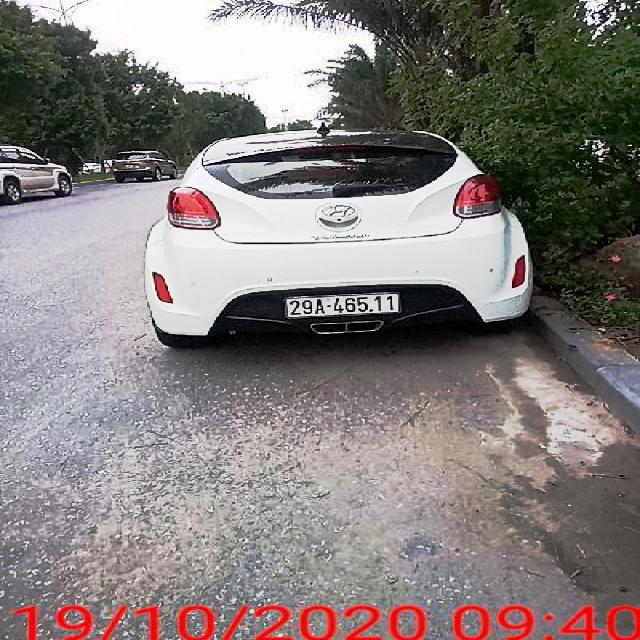license_plate: (283, 292, 406, 318)
